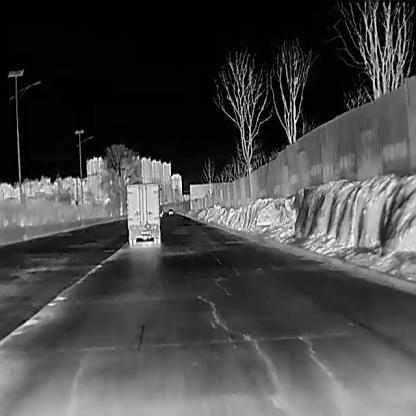car: (168, 207, 173, 214)
truck: (125, 182, 160, 246)
